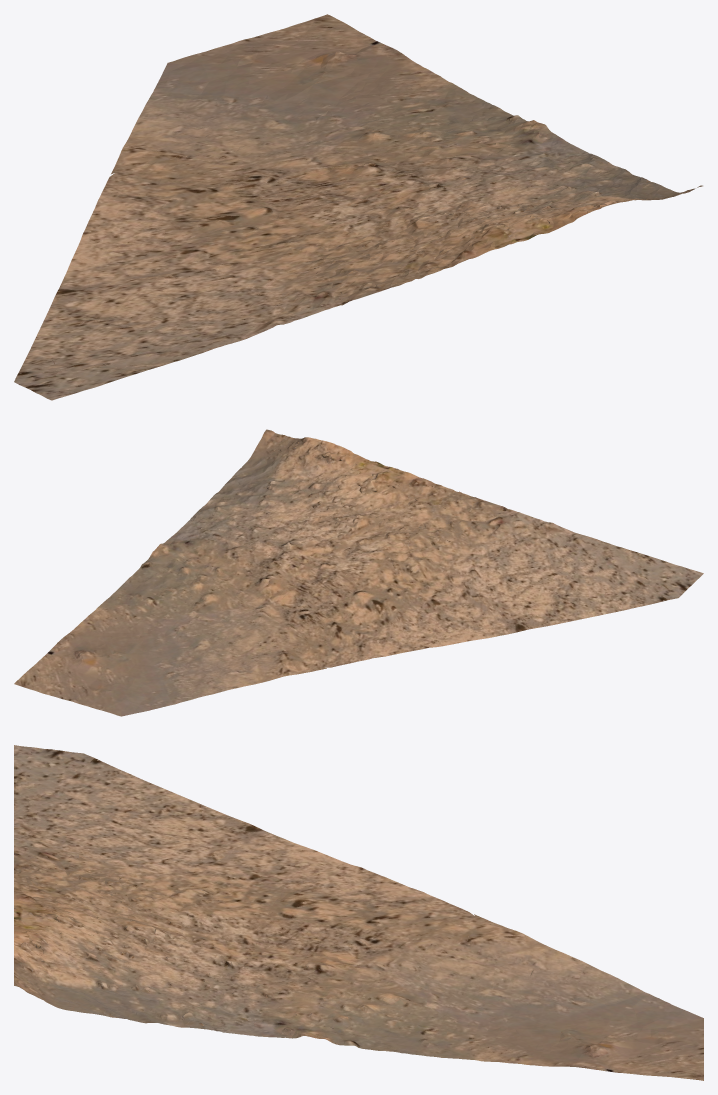
3 renders of one model, top to bottom at view 1: azimuth 30°, elevation 25°; view 2: azimuth 150°, elevation 25°; view 3: azimuth 270°, elevation 25°, orthographic. The views are drawn at different scales.
Bounding box in the file's own units: 33.42 × 5.75 × 33.42.
Materials: 2 (2 with a texture image).
